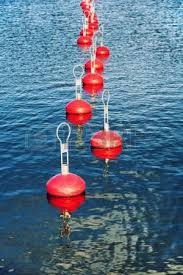buoy: (47, 171, 86, 196), (90, 130, 122, 148), (65, 99, 91, 113), (81, 73, 104, 85), (94, 46, 109, 56), (86, 61, 102, 70), (80, 27, 95, 35), (78, 36, 92, 44), (88, 21, 100, 28), (86, 13, 97, 19), (80, 2, 88, 7), (84, 8, 91, 13)
